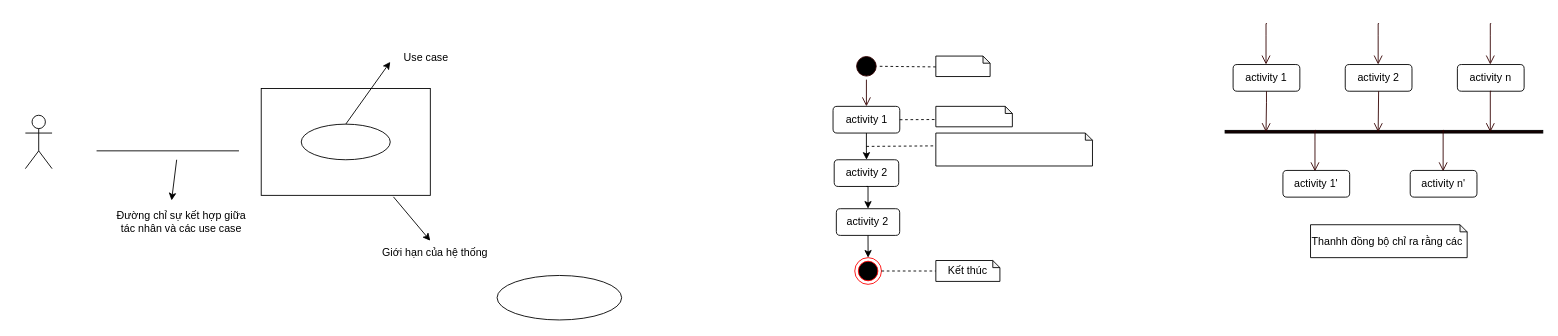
The diagram is 1558 pixels wide and 336 high, and some of its shapes have lost their labels. Each missing label, with the box of its shape:
Bắt đầu: (935, 55, 990, 77)
Chuyển tiếp activity 2 chỉ khi activity 1 kết thúc: (935, 132, 1092, 166)
Hoạt động 1: (935, 105, 1012, 127)
Tác nhân: (24, 114, 52, 169)
Xem đơn mua: (496, 275, 622, 320)
